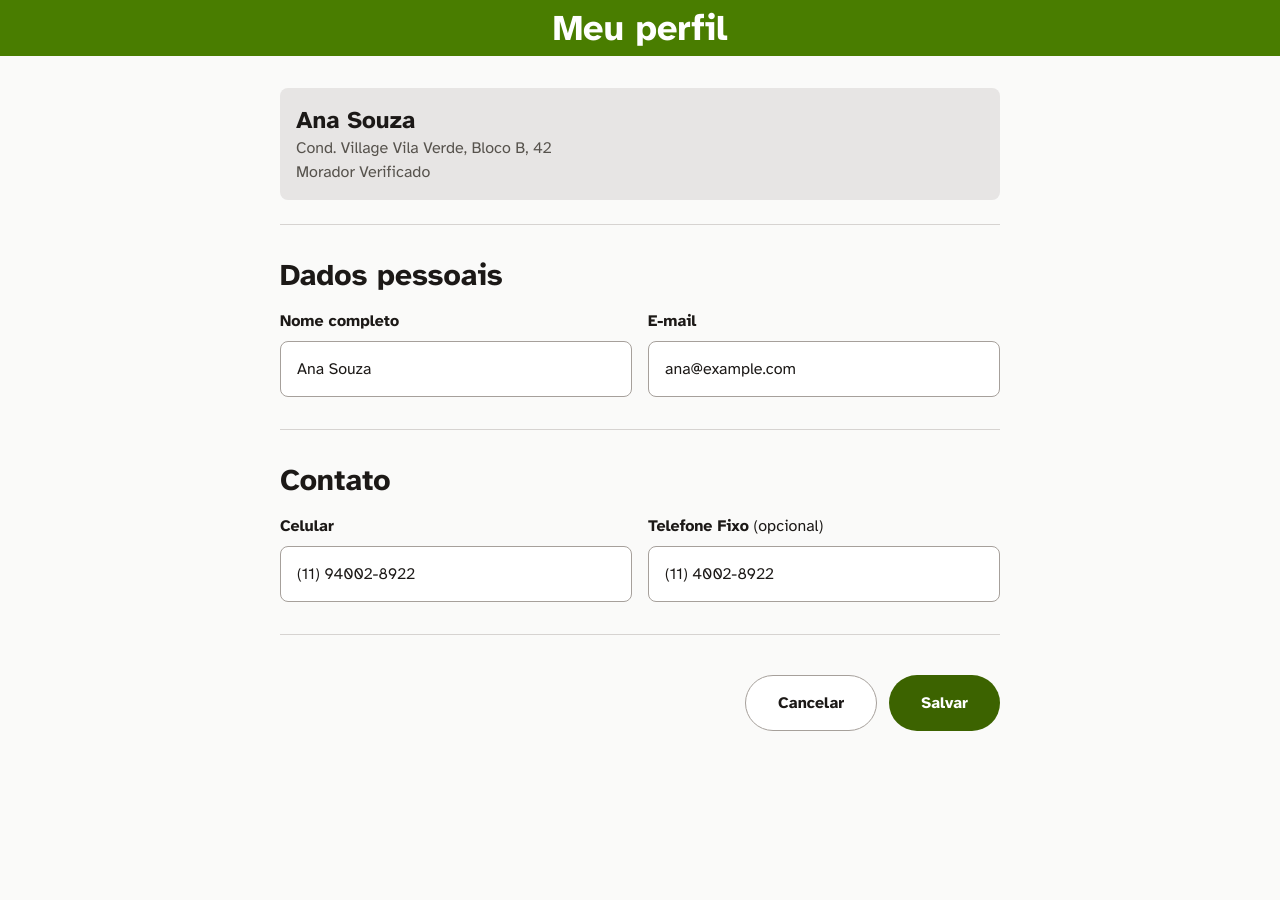
Test: MyProfile › hides the saved message once the data changes again
Click the button "Salvar" at (945, 703), box x1=889 y1=675 x2=1000 y2=731
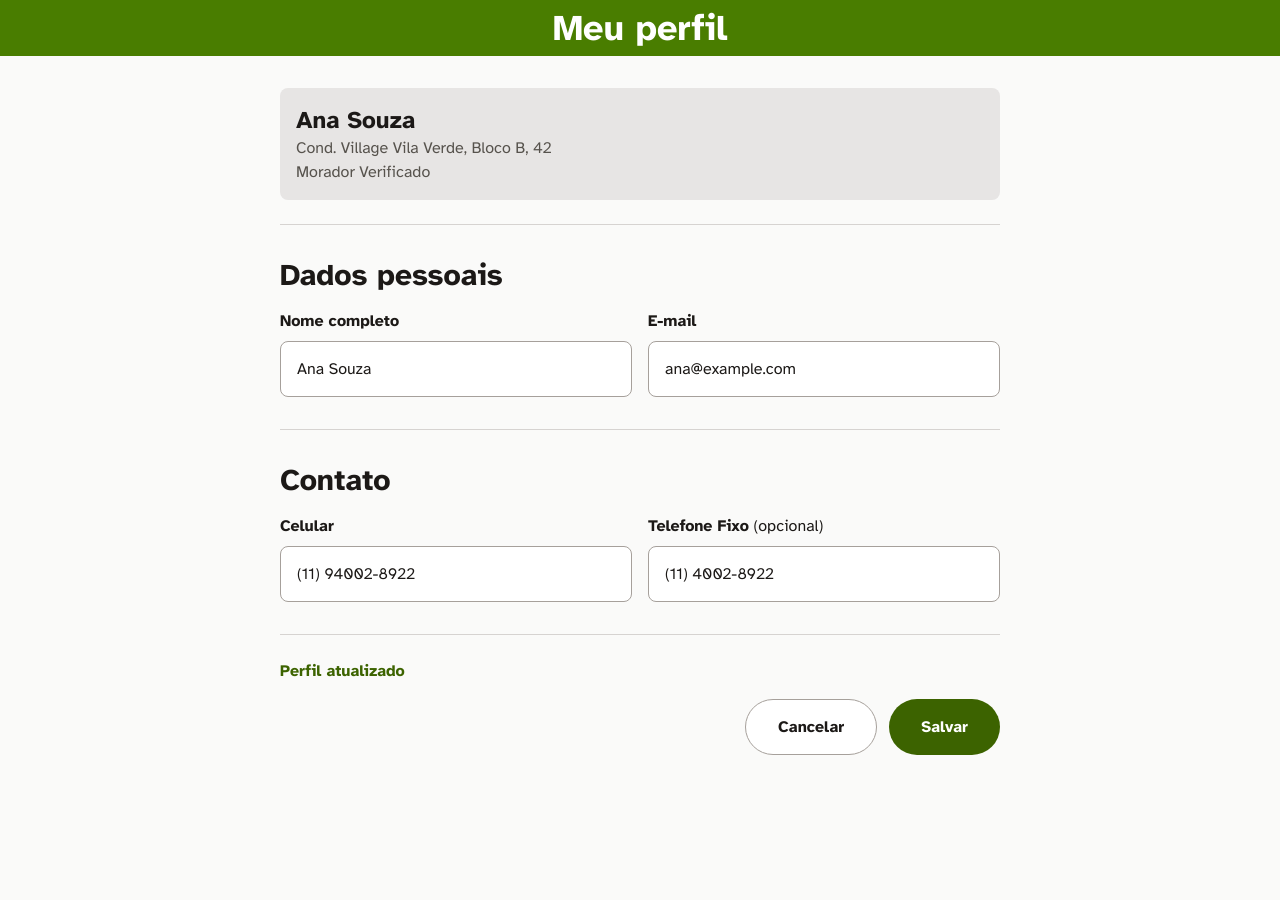
Check: the text "Perfil atualizado" is shown, box x1=280 y1=661 x2=405 y2=681
Type " Lima" into the field labelled "Nome completo" at (456, 369), box x1=280 y1=341 x2=632 y2=397
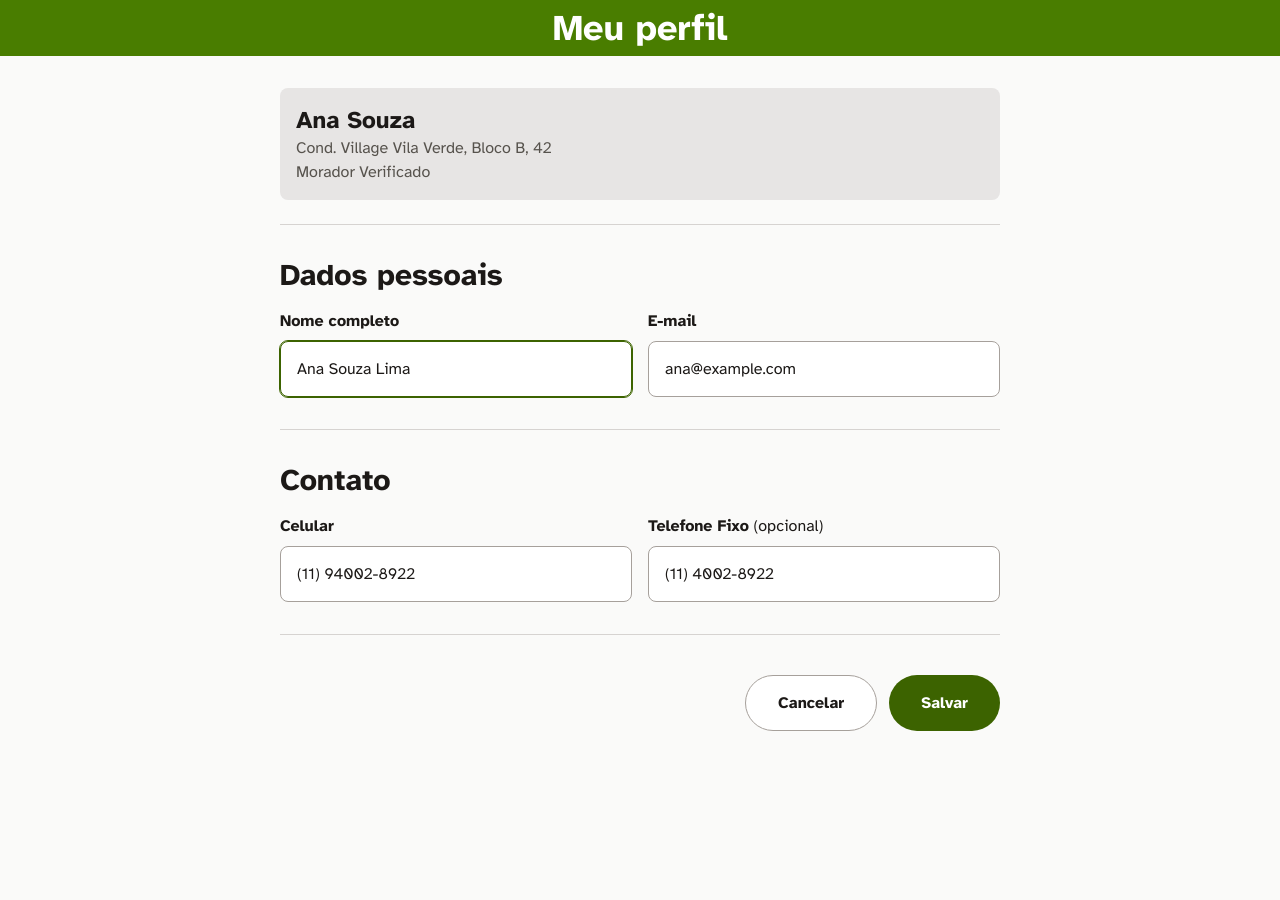
Check: the text "Perfil atualizado" is gone
